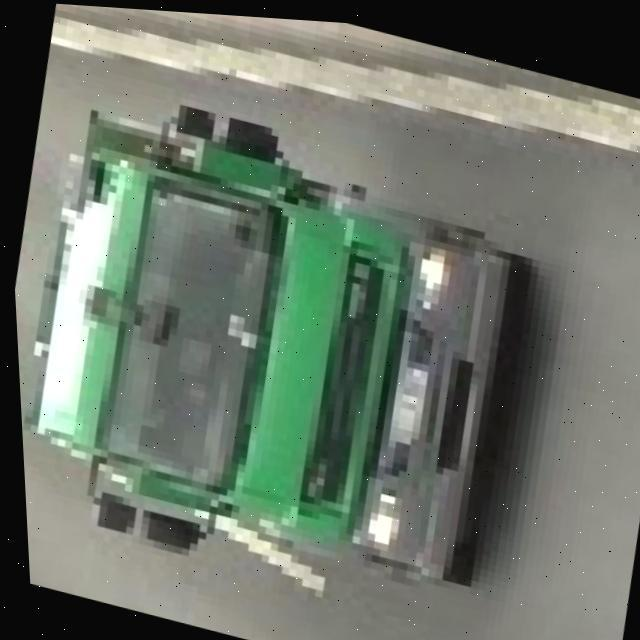truck: (3, 78, 571, 640)
